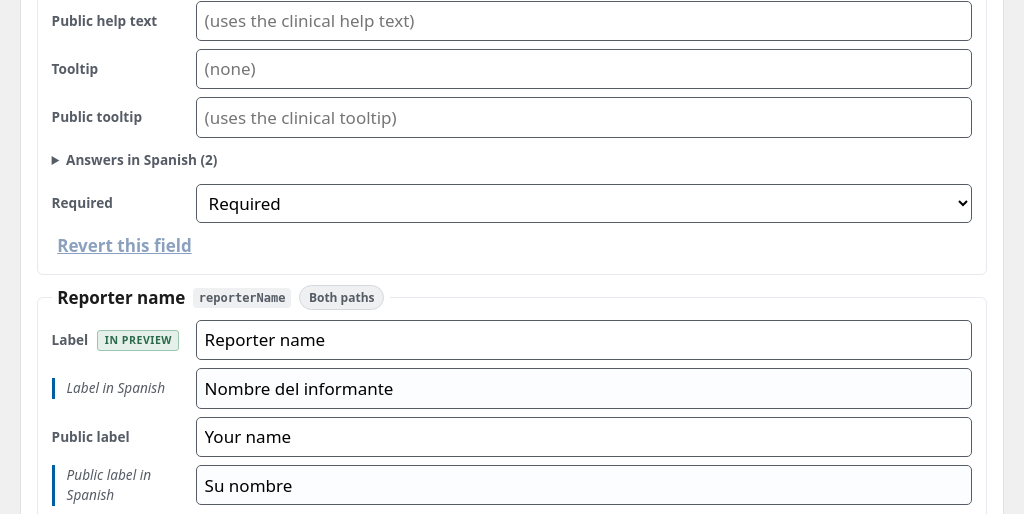
Test: accessibility: admin configuration surface › has no violations with the reset-all confirmation open
The image size is (1024, 514).
(page scrolled)
Note: Customize first so the guarded reset control is enabled.
Type " X" into the field named "Label for reporterName".
click(584, 340); type(" X")  # box [196,320,972,360]
(page scrolled)
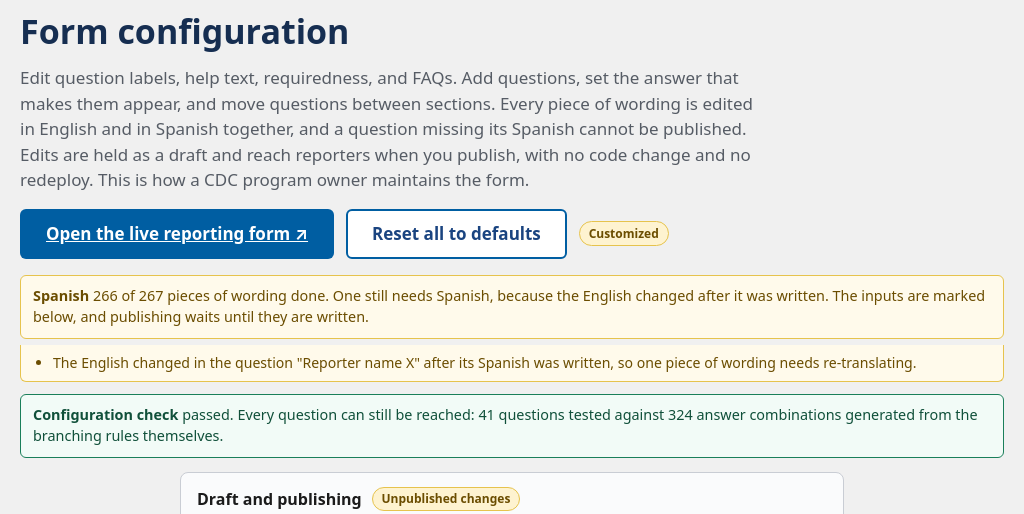
Click the button "Reset all to defaults".
click(456, 234)  # box [346,208,567,259]
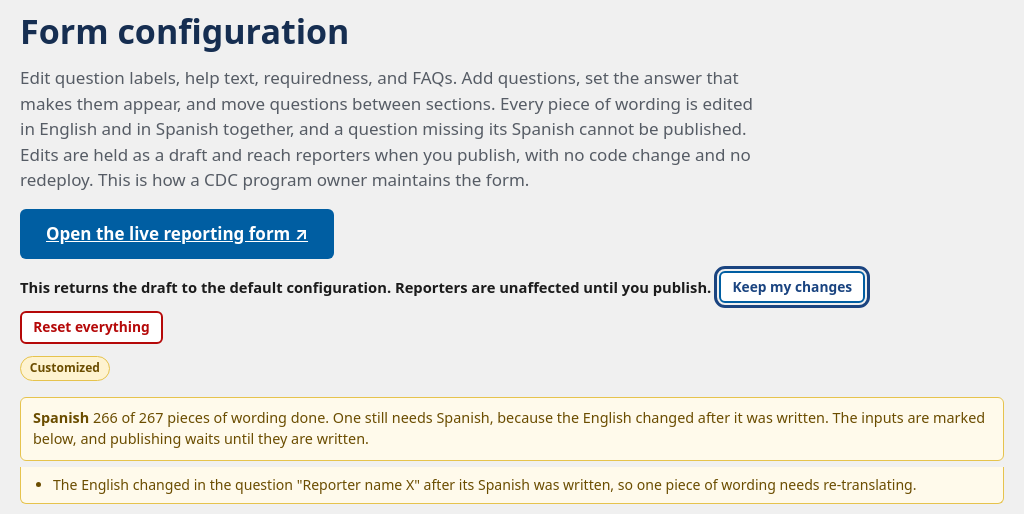
Check: the element "returns the draft to the default configuration" is shown, box [20,271,1004,344]
